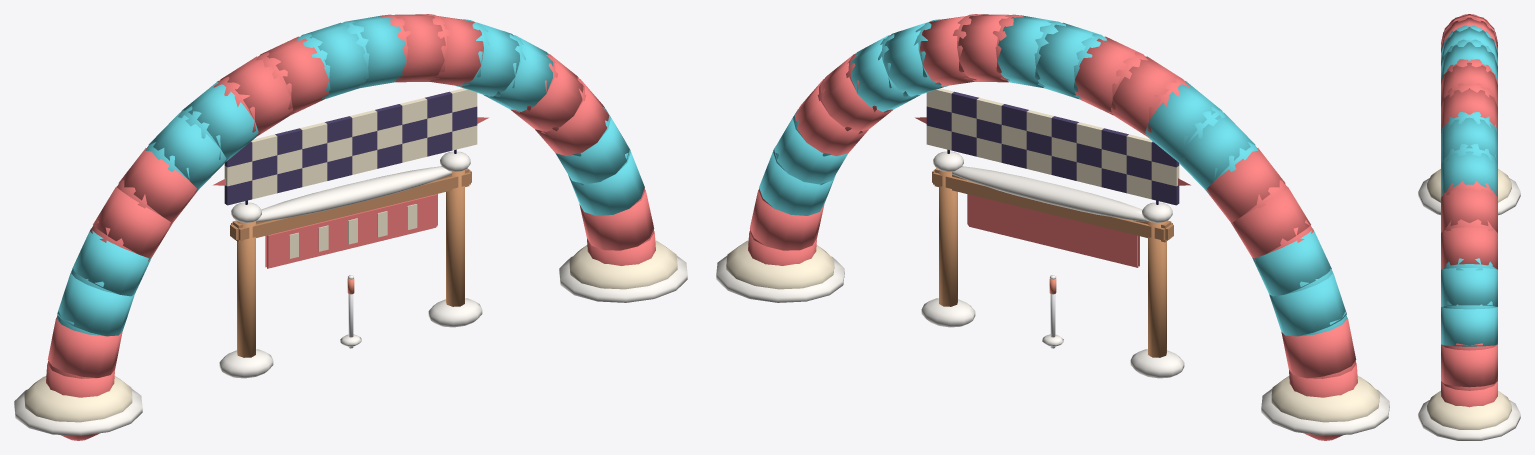
The model's file is decor.glb.
3 renders of one model, left to right at view 1: azimuth 30°, elevation 25°; view 2: azimuth 150°, elevation 25°; view 3: azimuth 270°, elevation 25°, orthographic. The views are drawn at different scales.
Parts seen in each view (by area): view 1: arch, gate; view 2: arch, gate; view 3: arch.
Boxes of the visible parts, <box> form: arch: <box>14,14,687,440</box>; gate: <box>213,117,488,378</box>; arch: <box>716,14,1389,440</box>; gate: <box>915,117,1190,378</box>; arch: <box>1418,14,1520,440</box>.
Size of the model in its own units: 28.94 by 14.6 by 4.68.
